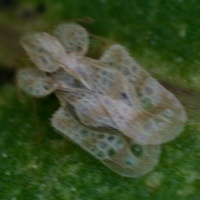insect: (17, 23, 185, 176)
